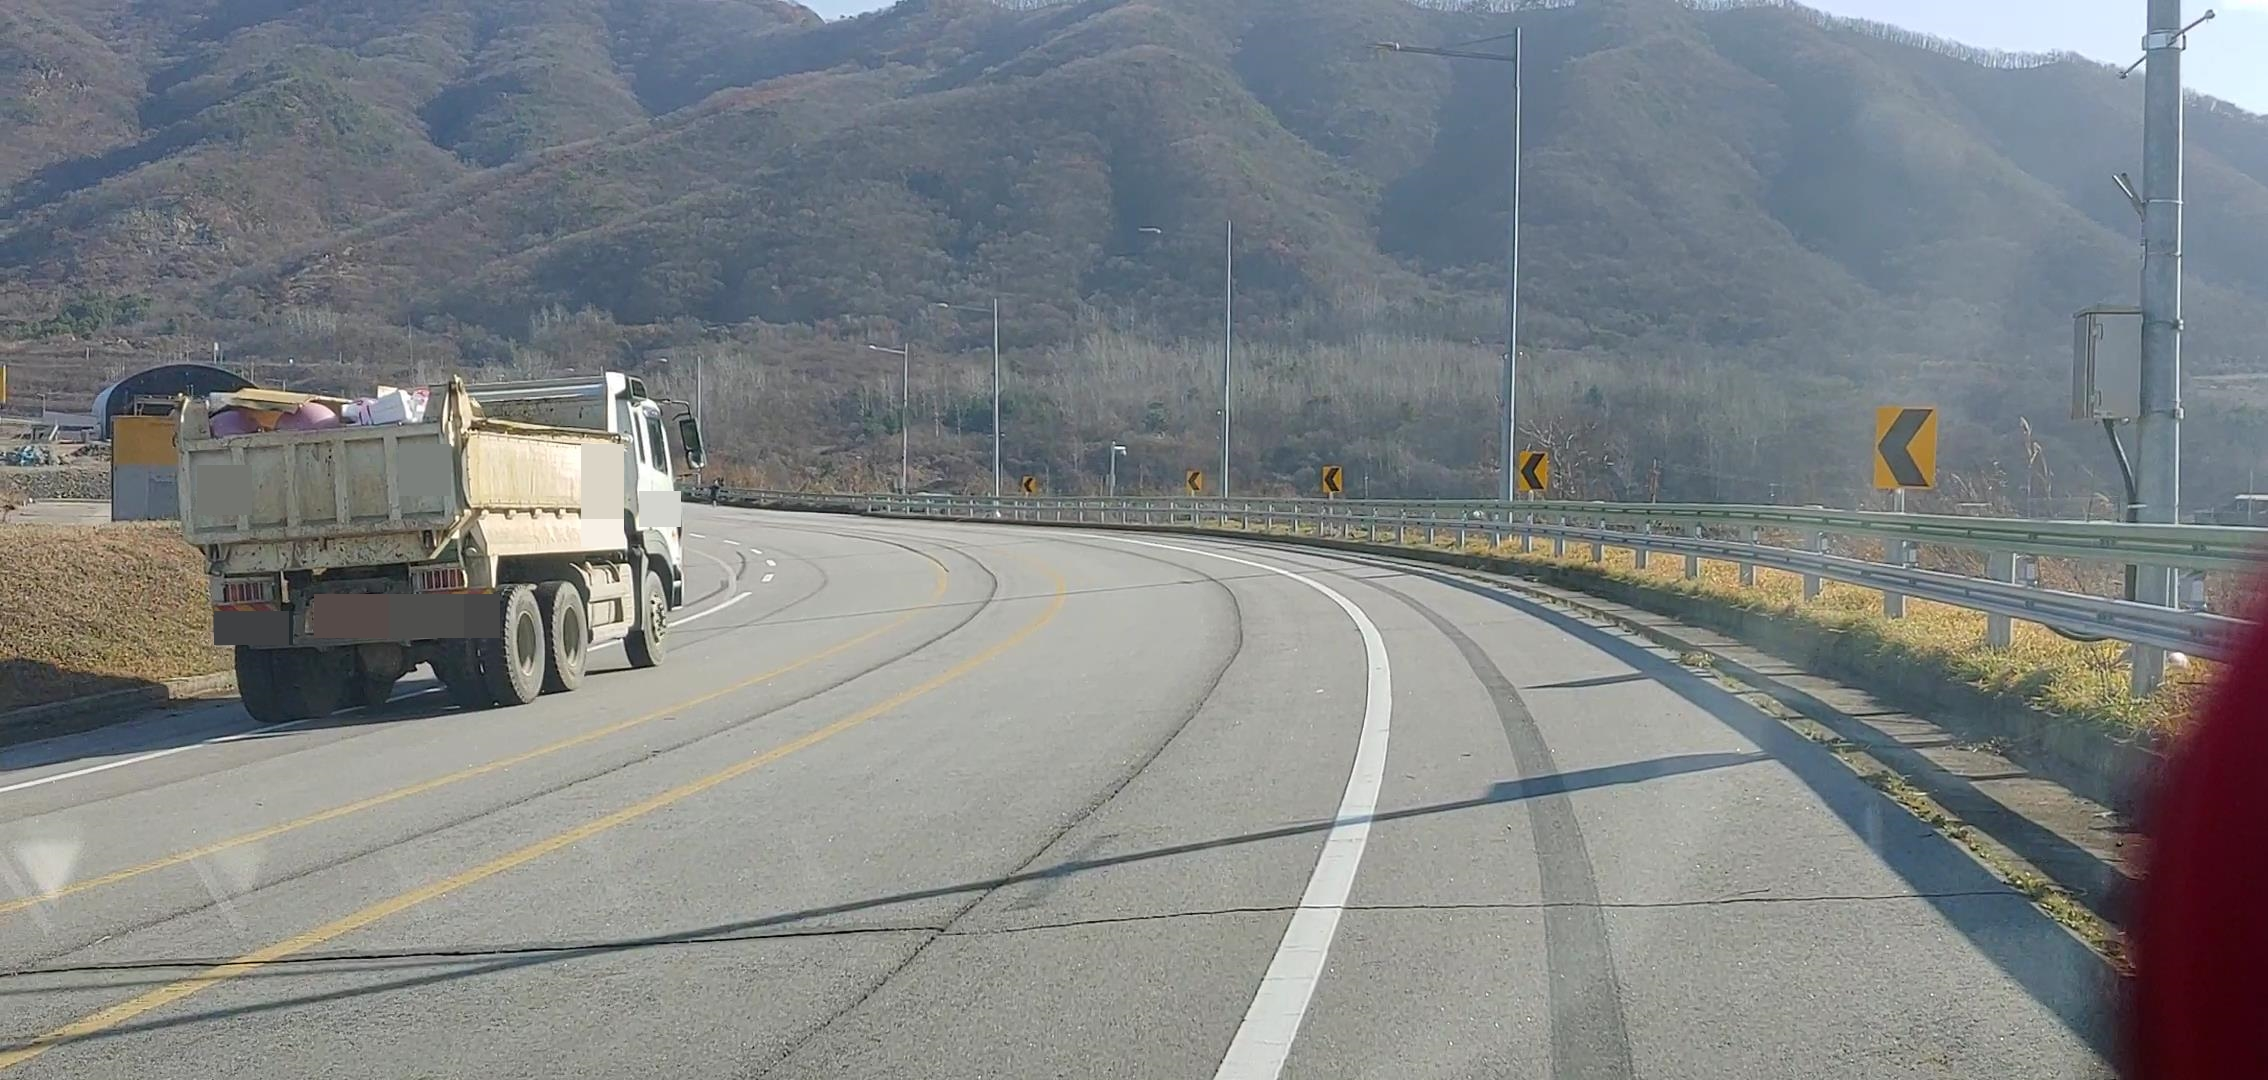불법차량: (171, 369, 708, 722)
